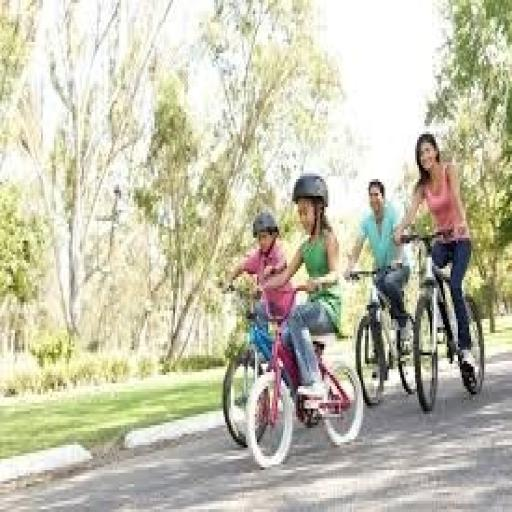cycling: (391, 129, 482, 397), (259, 171, 346, 411), (343, 176, 415, 370)
